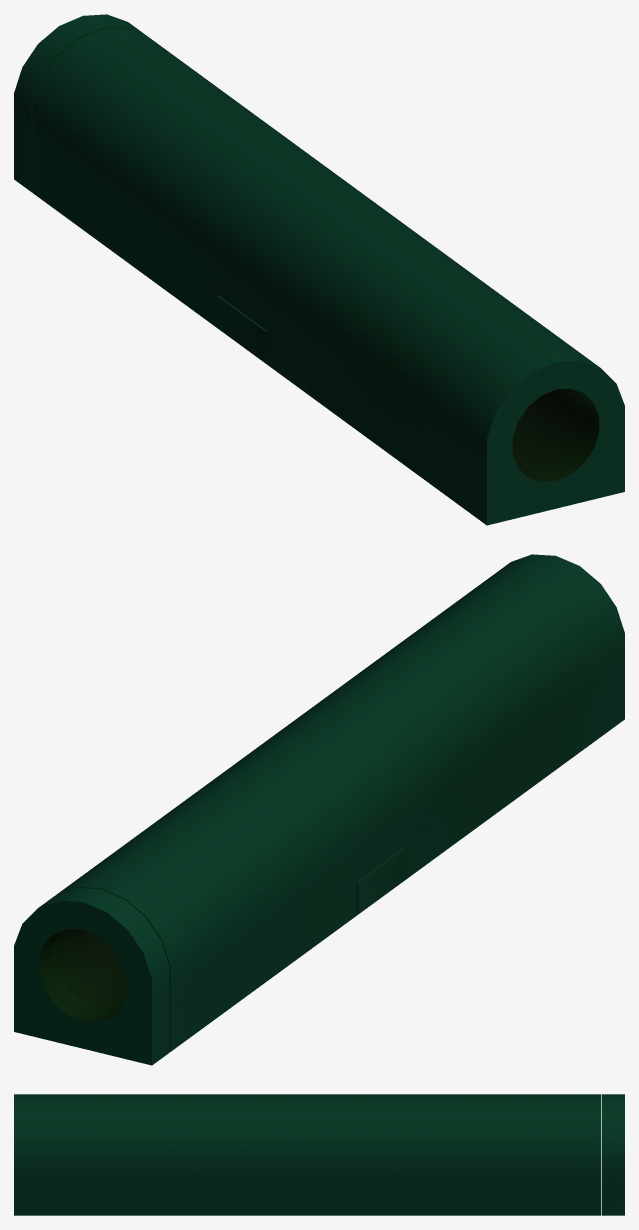
The picture shows the model from 3 angles, top to bottom: view 1: azimuth 30°, elevation 25°; view 2: azimuth 150°, elevation 25°; view 3: azimuth 270°, elevation 25°; orthographic projection. The views are drawn at different scales.
Parts seen in each view (by area): view 1: 202_JieZhiLa_T150, 202_LaKuai, 202_LaKuai_JuDiao; view 2: 202_JieZhiLa_T150, 202_LaKuai, 202_LaKuai_JuDiao; view 3: 202_JieZhiLa_T150, 202_LaKuai.
Part boxes in pixels (<box>): 202_JieZhiLa_T150: <box>32,28,624,525</box>; 202_LaKuai: <box>14,14,145,192</box>; 202_LaKuai_JuDiao: <box>234,308,268,363</box>; 202_JieZhiLa_T150: <box>56,554,624,1051</box>; 202_LaKuai: <box>14,887,169,1065</box>; 202_LaKuai_JuDiao: <box>374,845,406,901</box>; 202_JieZhiLa_T150: <box>14,1094,601,1215</box>; 202_LaKuai: <box>602,1094,624,1215</box>.
Bounding box in the file's own units: 2.39 × 2.4 × 14.02.
1 material, 1 textured.
